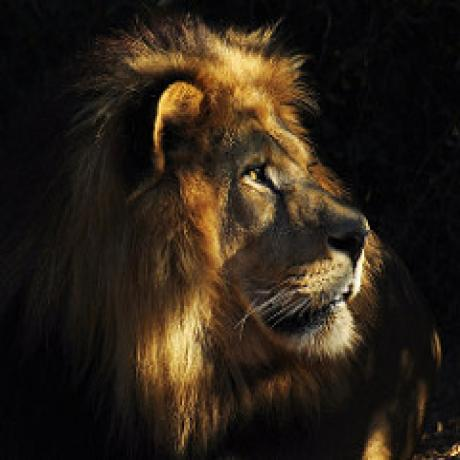Lion: (56, 9, 433, 460)
